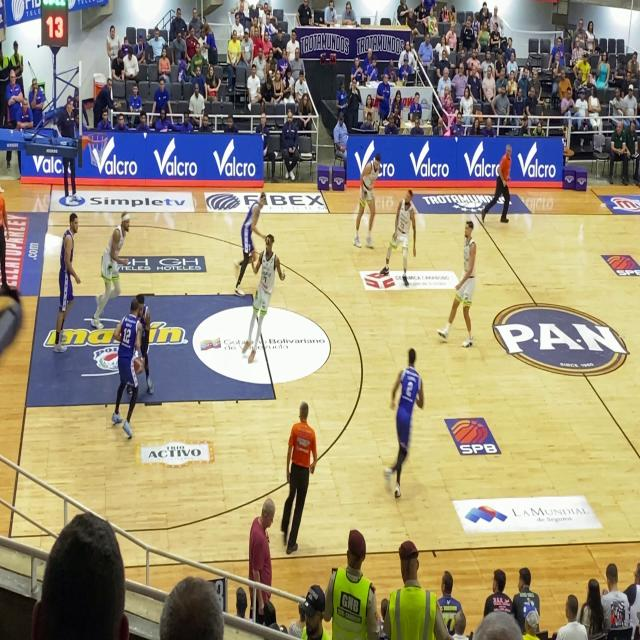referee: (284, 402, 319, 546), (487, 141, 516, 235), (0, 190, 11, 303)
team1: (94, 209, 131, 325), (250, 236, 283, 358), (451, 227, 478, 354), (388, 188, 416, 284), (360, 151, 382, 255)
team2: (388, 346, 426, 507), (54, 212, 85, 351), (115, 300, 143, 438), (240, 193, 264, 260)
ubasket: (87, 130, 108, 168)
